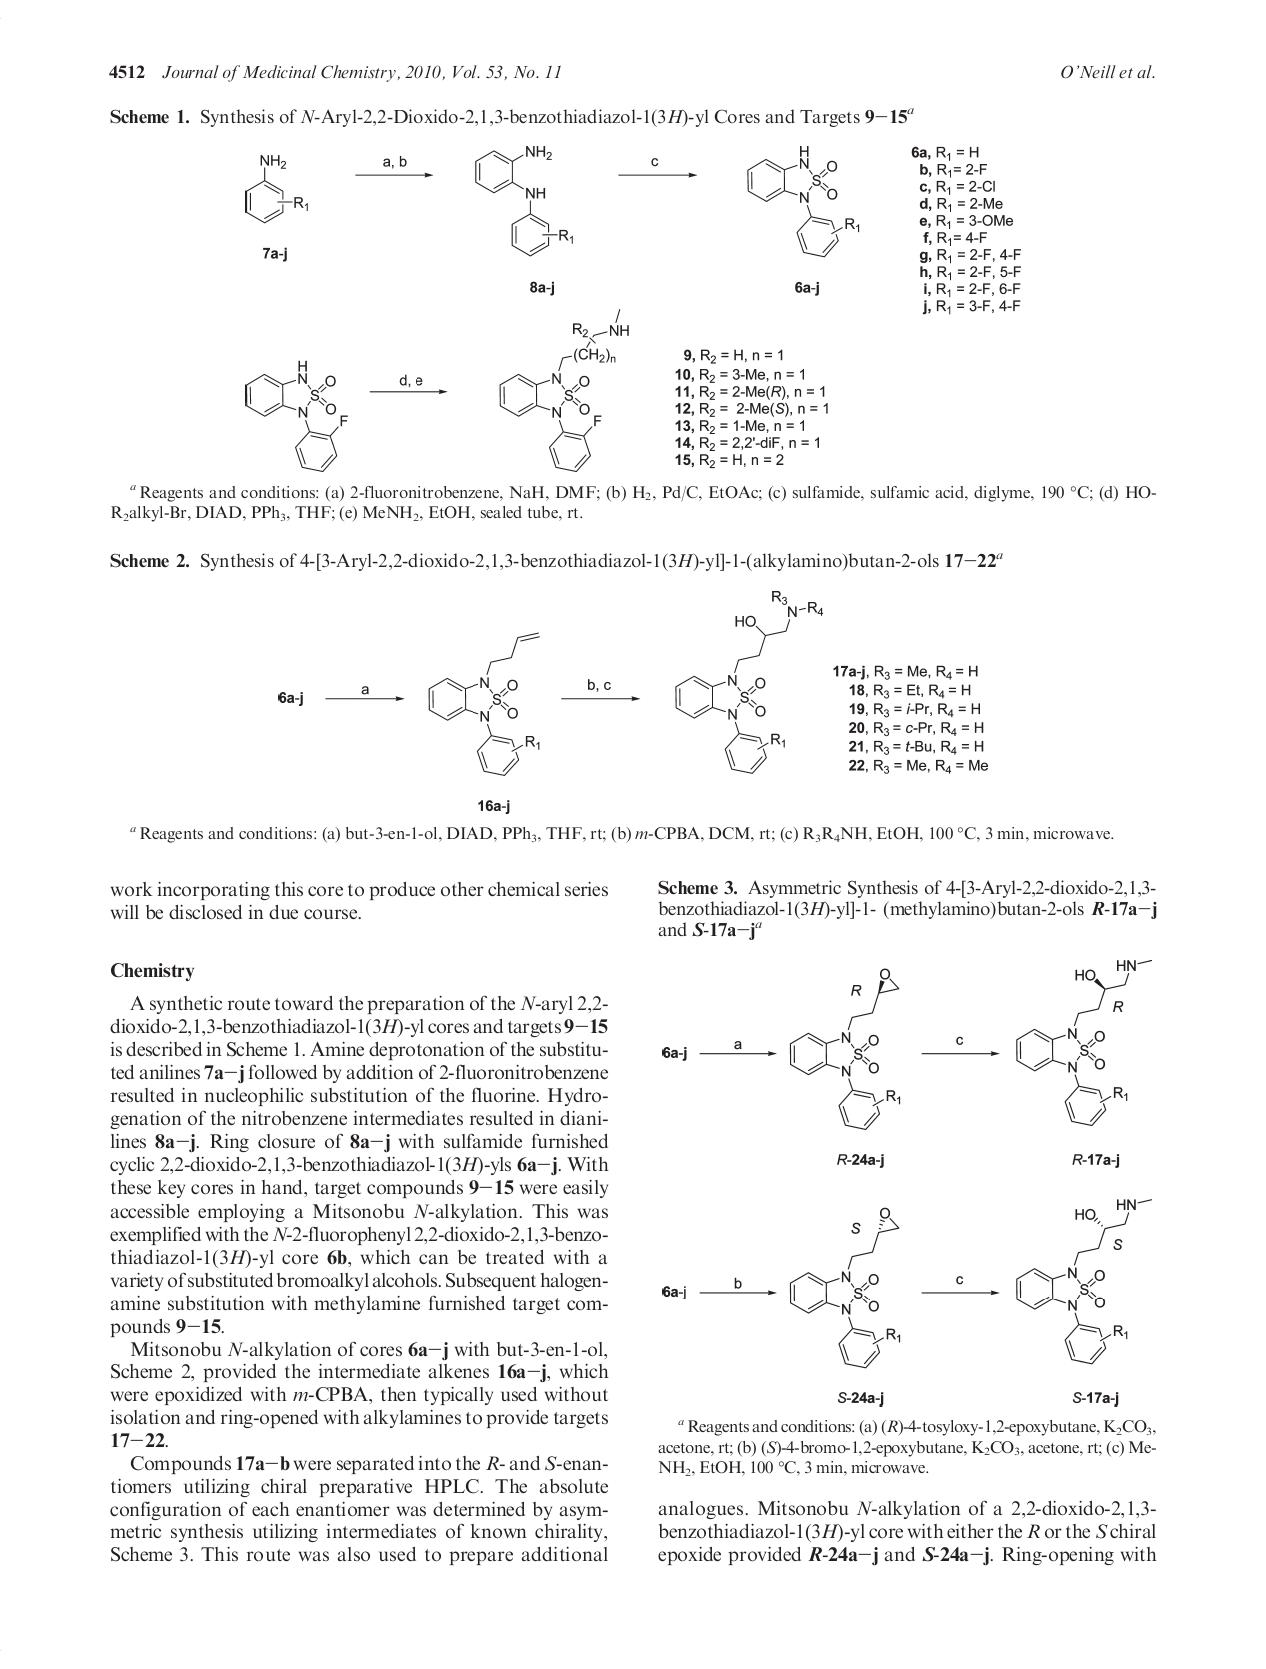exist_molecular: (672, 582, 824, 782), (1011, 951, 1156, 1132), (1013, 1192, 1157, 1367), (495, 302, 636, 473), (785, 962, 906, 1146), (423, 622, 557, 782), (793, 1198, 906, 1374), (746, 136, 858, 263), (246, 352, 356, 473), (476, 140, 582, 261), (234, 152, 318, 221)
